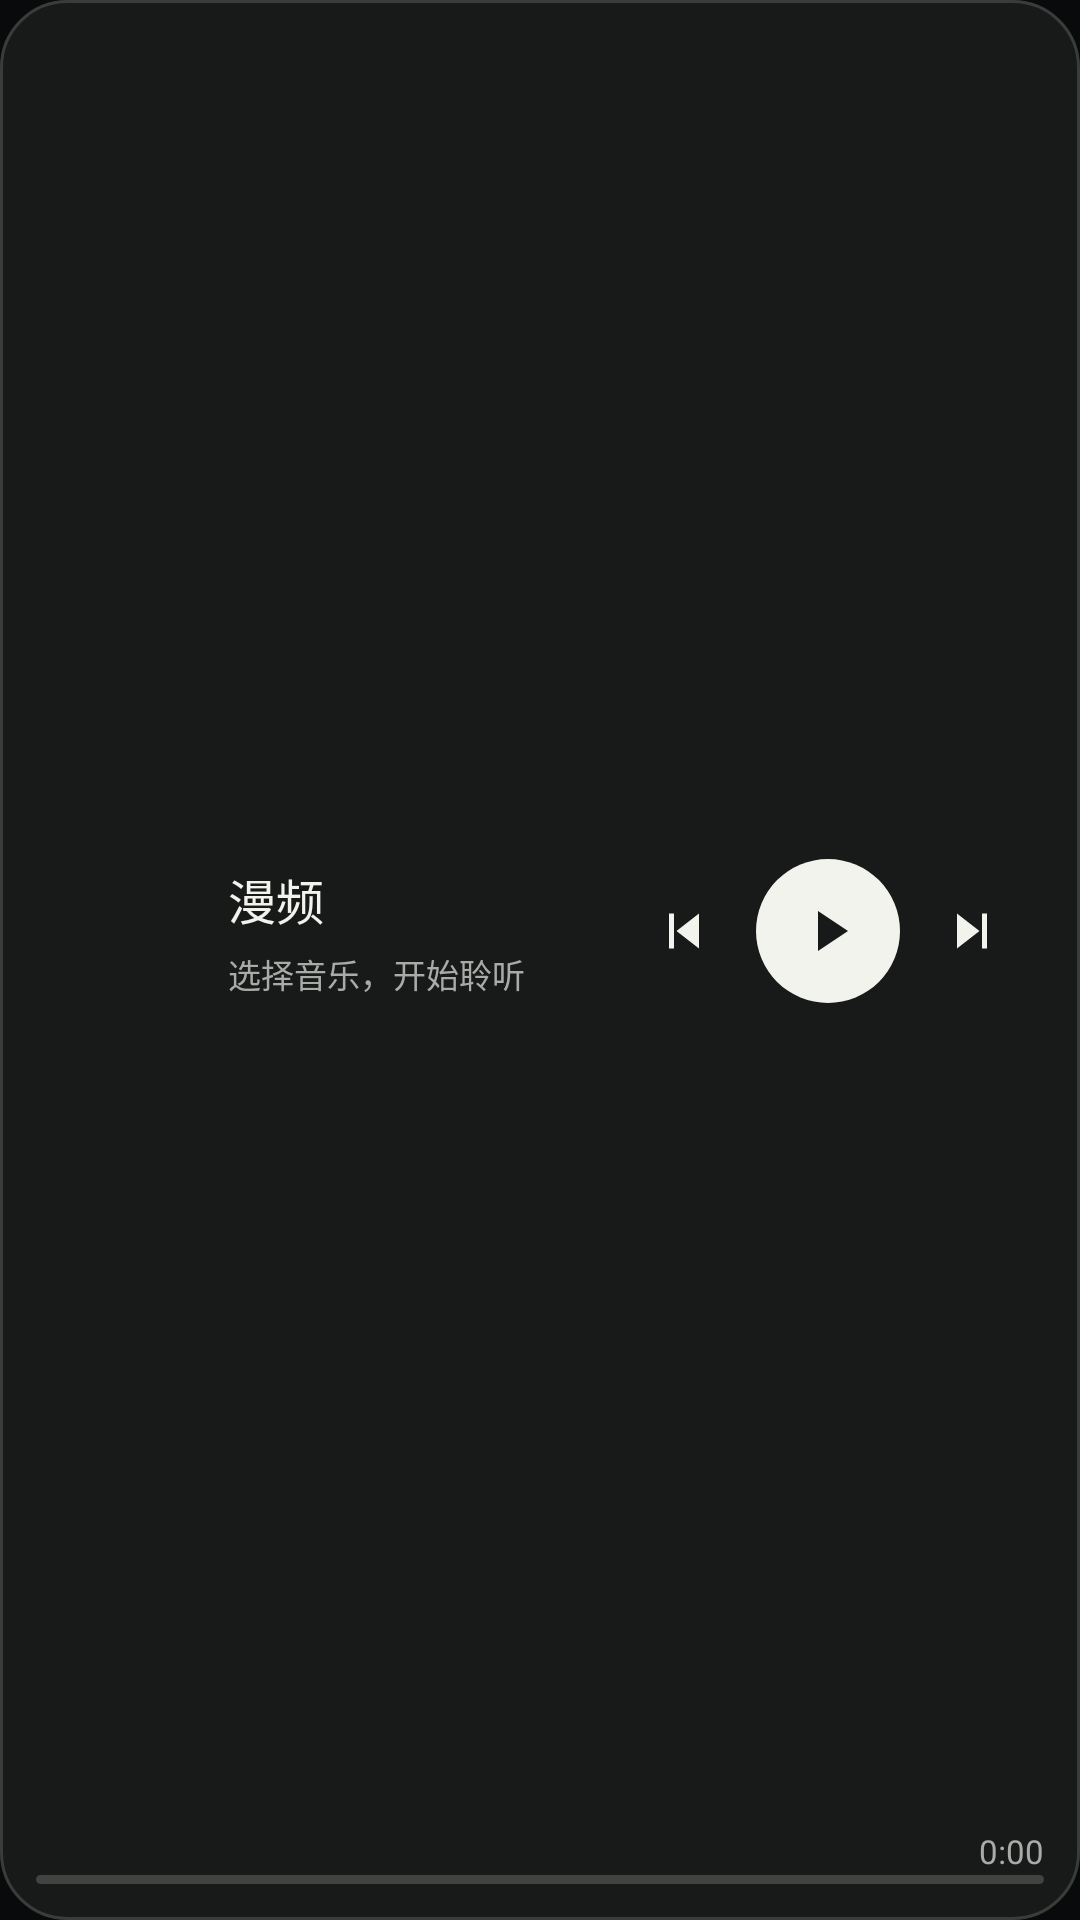

Icons on this 1080px×1920px Android screen, each with the point to tap as point (x, y):
上一首: point (684, 931)
下一首: point (972, 931)
播放或暂停: point (828, 931)
